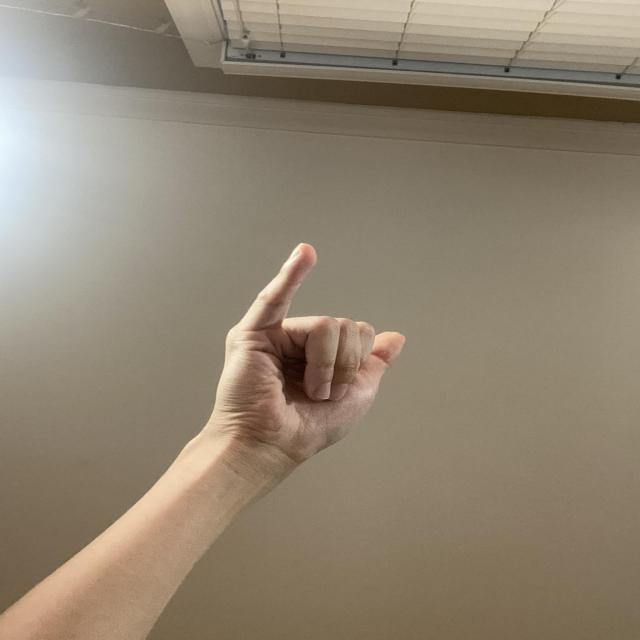Y: (198, 236, 416, 483)
